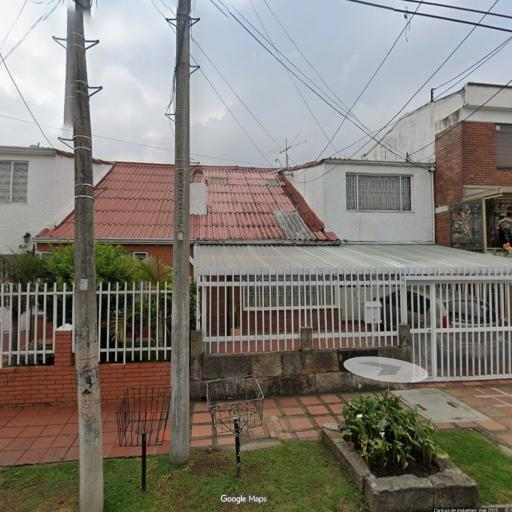Casa: (44, 159, 340, 400)
postes: (52, 0, 105, 512), (164, 0, 201, 466)
